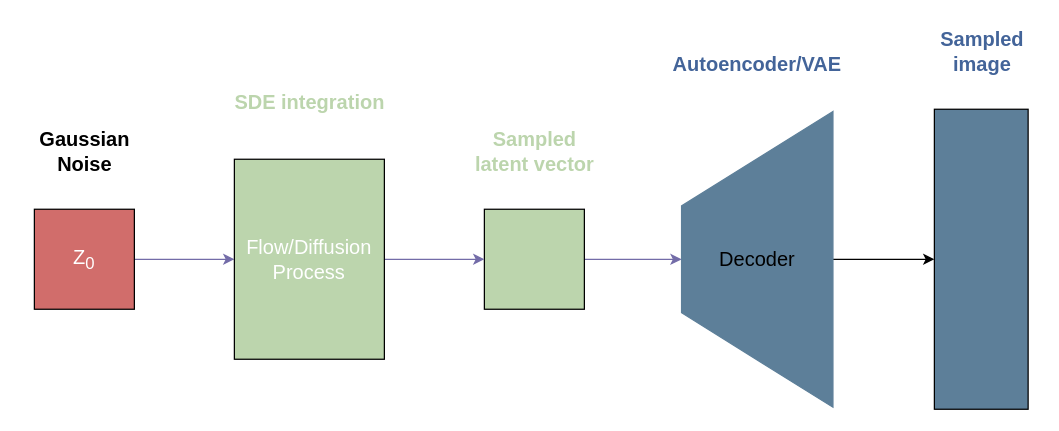
Some shapes in this 1059 by 431 pixel diagram are drawn without their labels. The centre of each missing label's shape, as x and y in pixels:
Image: point (980, 258)
Z 1: point (533, 258)
